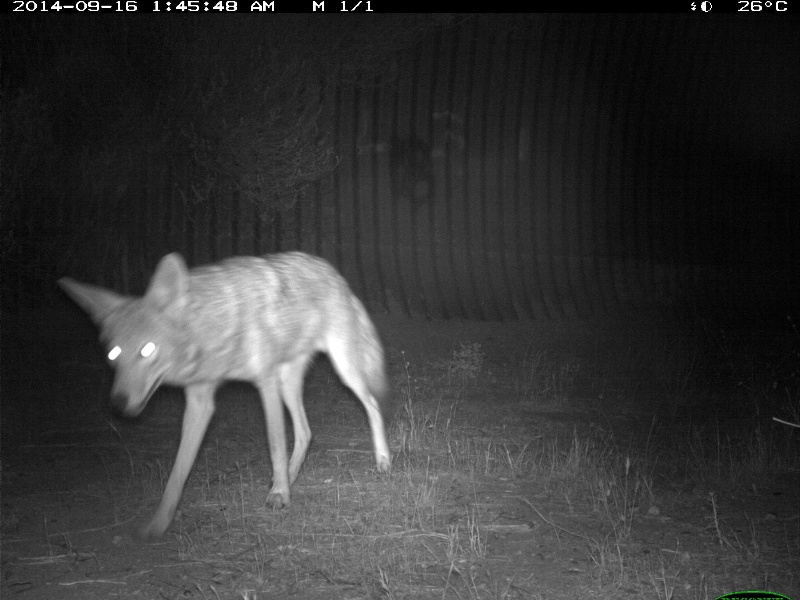coyote: (52, 240, 400, 543)
